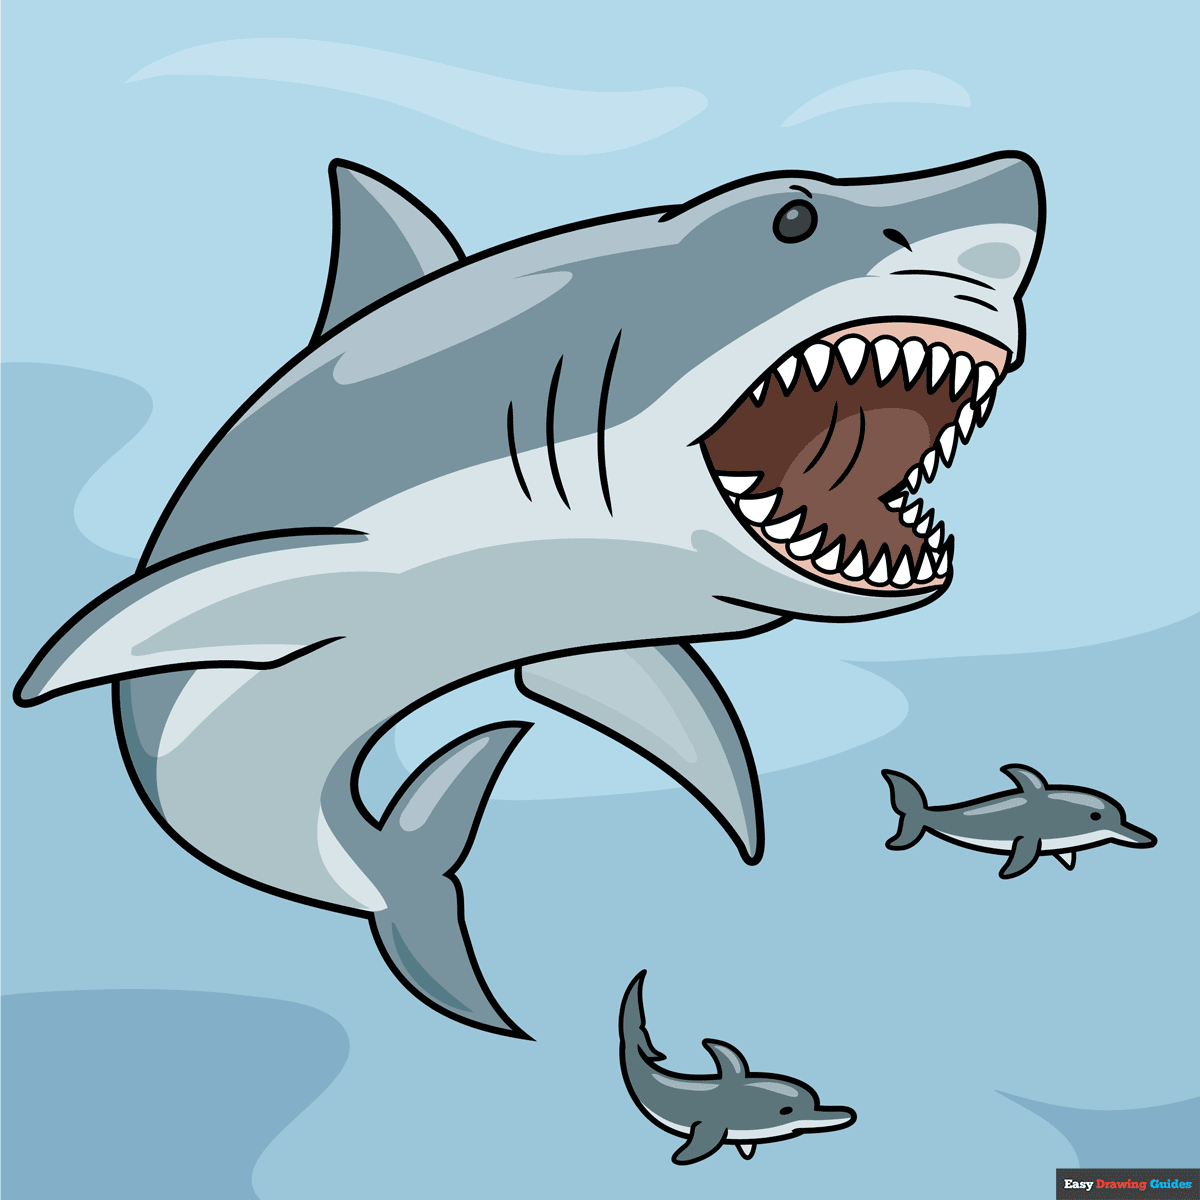Shark: (13, 152, 1043, 1043)
